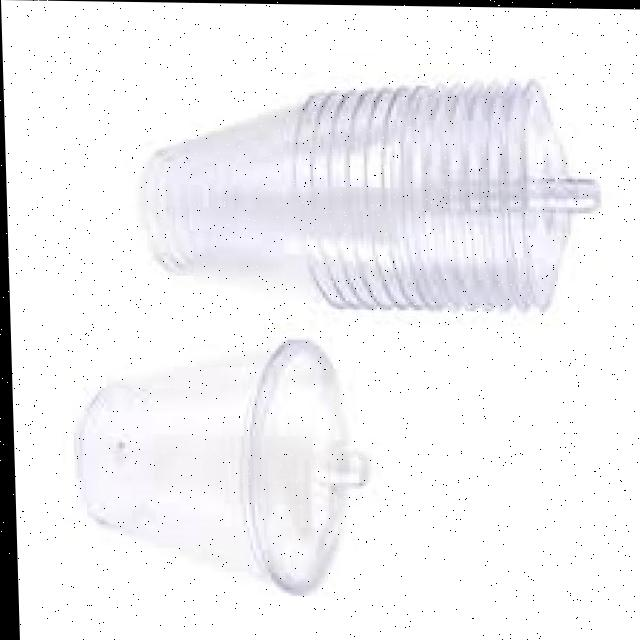cup: (37, 308, 363, 617), (106, 74, 357, 329)
